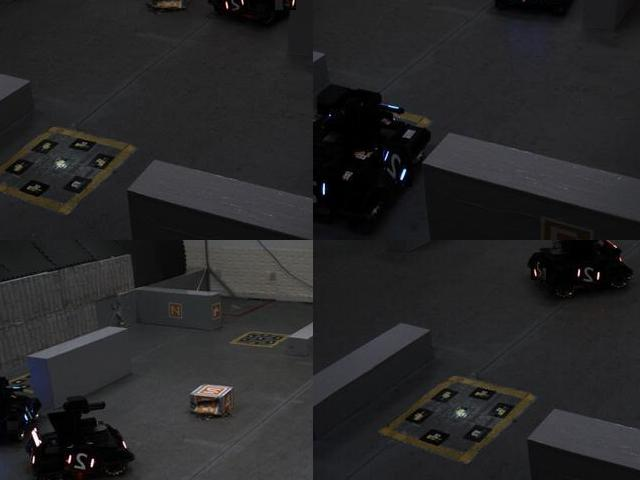armor: (379, 147, 413, 188), (64, 449, 102, 474), (313, 172, 332, 216), (573, 264, 608, 286), (221, 0, 250, 16), (531, 262, 547, 282), (275, 0, 299, 12), (509, 0, 543, 8)
